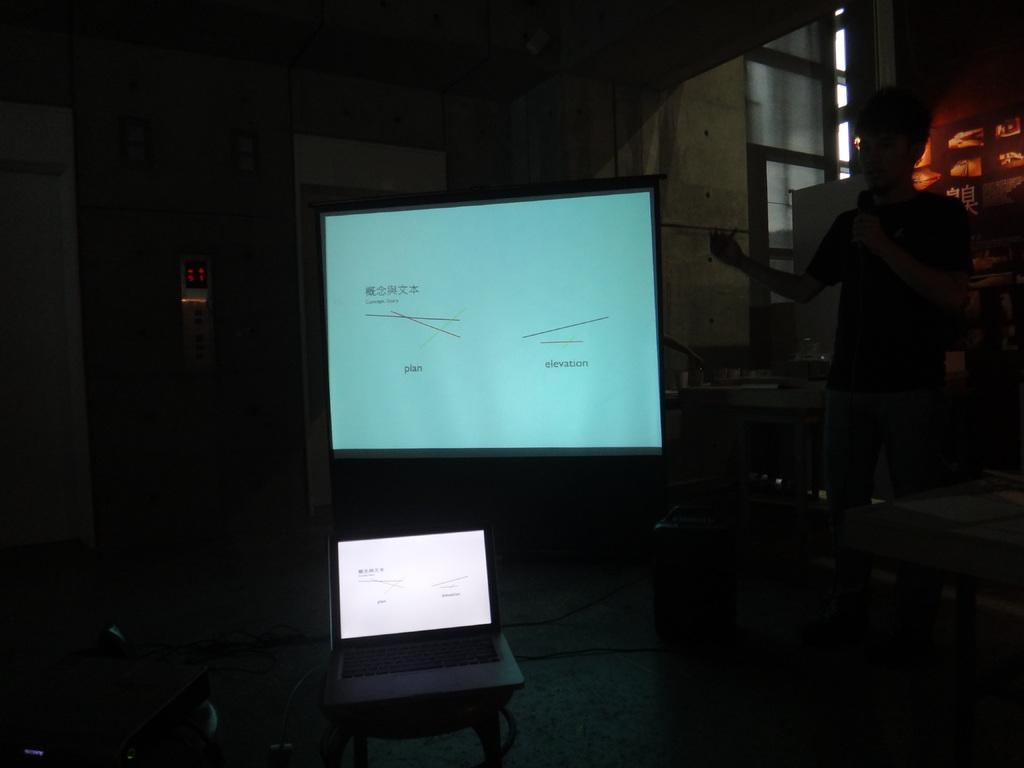Laptop: (326, 518, 528, 709)
